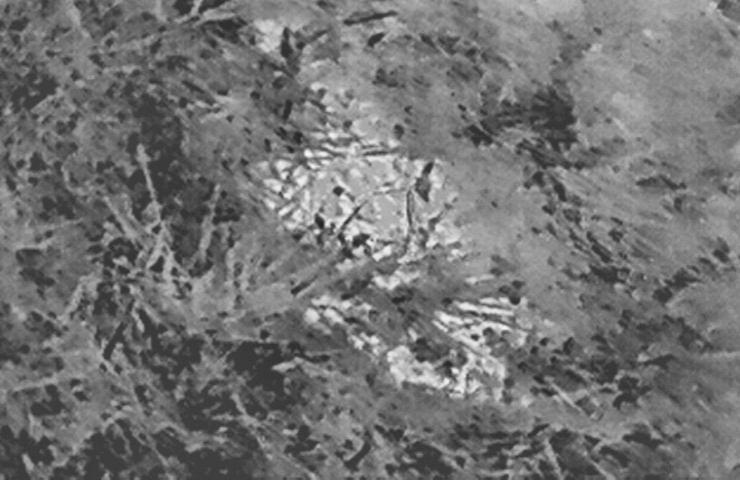landmines: (253, 92, 474, 266)
